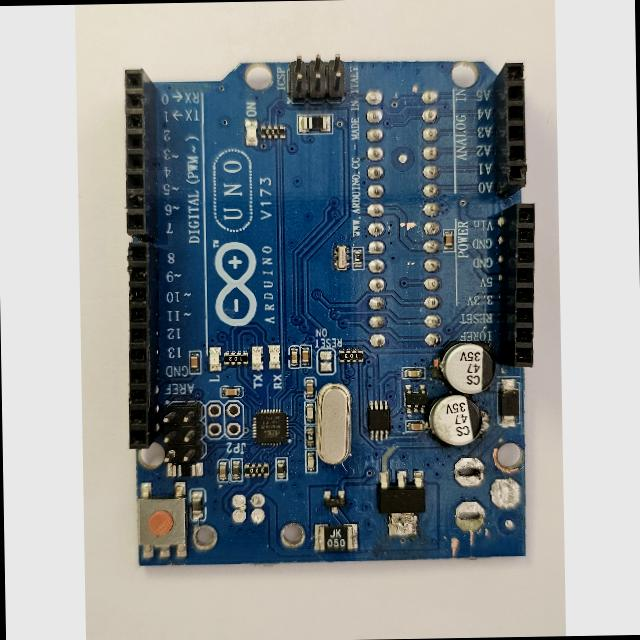missing_atmega: (361, 82, 447, 352)
missing_eps: (447, 452, 506, 542)
missing_usb: (206, 480, 310, 555)
